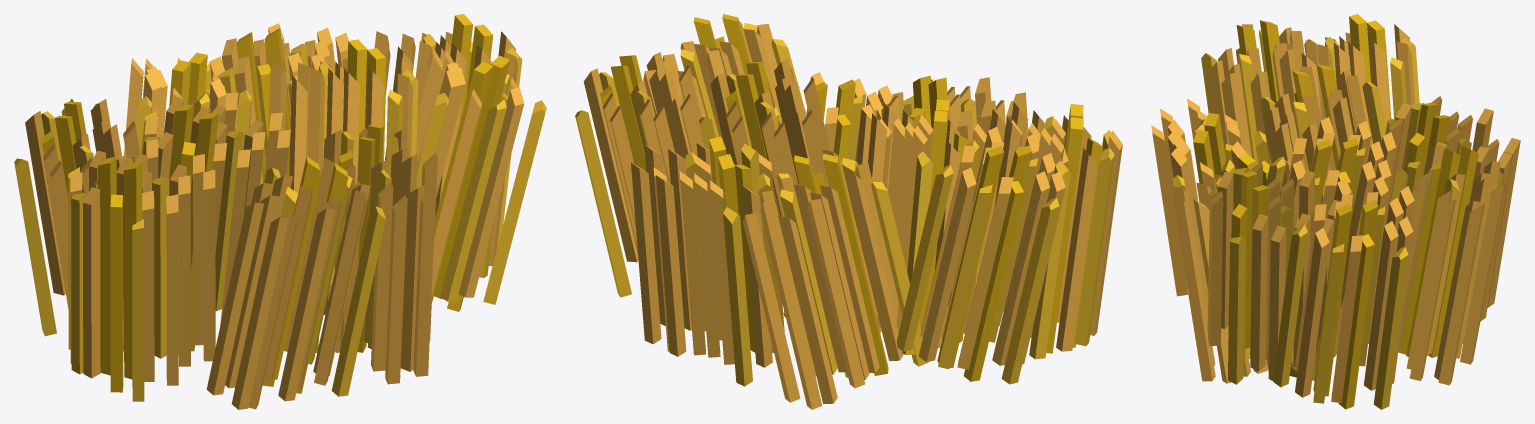
The model's file is FreeturnicaSKartofel.fbx.
3 views of the same model, side by side, from view 1: azimuth 30°, elevation 25°; view 2: azimuth 150°, elevation 25°; view 3: azimuth 270°, elevation 25° (orthographic). The views are drawn at different scales.
Parts seen in each view (by area): view 1: Cube.013; view 2: Cube.013; view 3: Cube.013.
Boxes of the visible parts, left/top/right/bottom form: Cube.013: left=14, top=14, right=546, bottom=409; Cube.013: left=575, top=14, right=1122, bottom=409; Cube.013: left=1151, top=14, right=1520, bottom=409.
Bounding box in the file's own units: 53.17 × 28.44 × 38.27.
